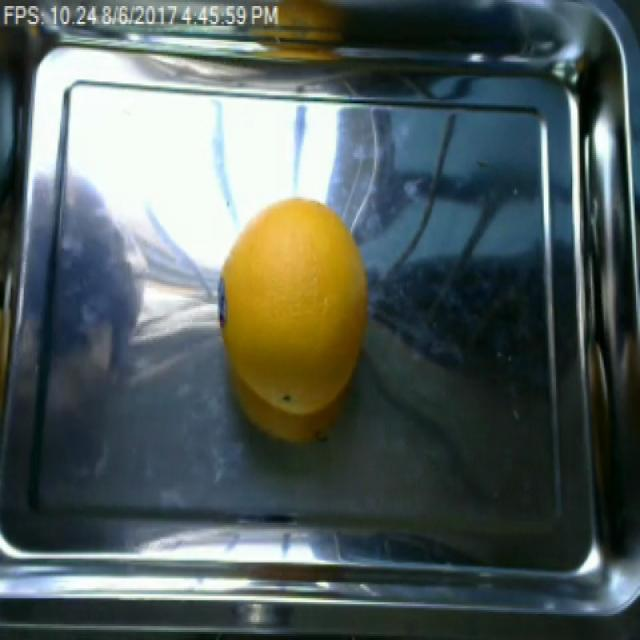Fruit: (215, 189, 372, 447)
